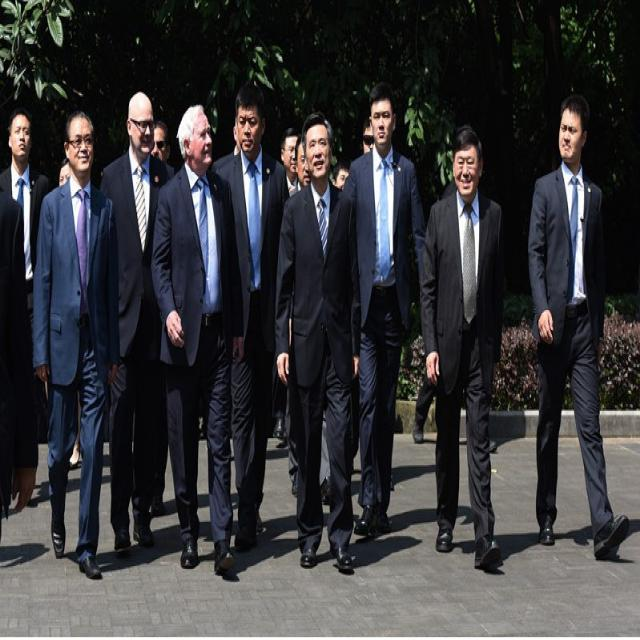body: (524, 89, 632, 569), (147, 99, 249, 582), (30, 102, 124, 586), (272, 107, 364, 579), (416, 119, 510, 576), (208, 77, 292, 560), (342, 82, 429, 540), (99, 89, 174, 552), (131, 116, 181, 524), (283, 131, 335, 506), (0, 182, 38, 600), (0, 105, 51, 356), (270, 125, 301, 442), (290, 137, 350, 196), (411, 369, 437, 446), (58, 155, 73, 186), (230, 115, 241, 154)
